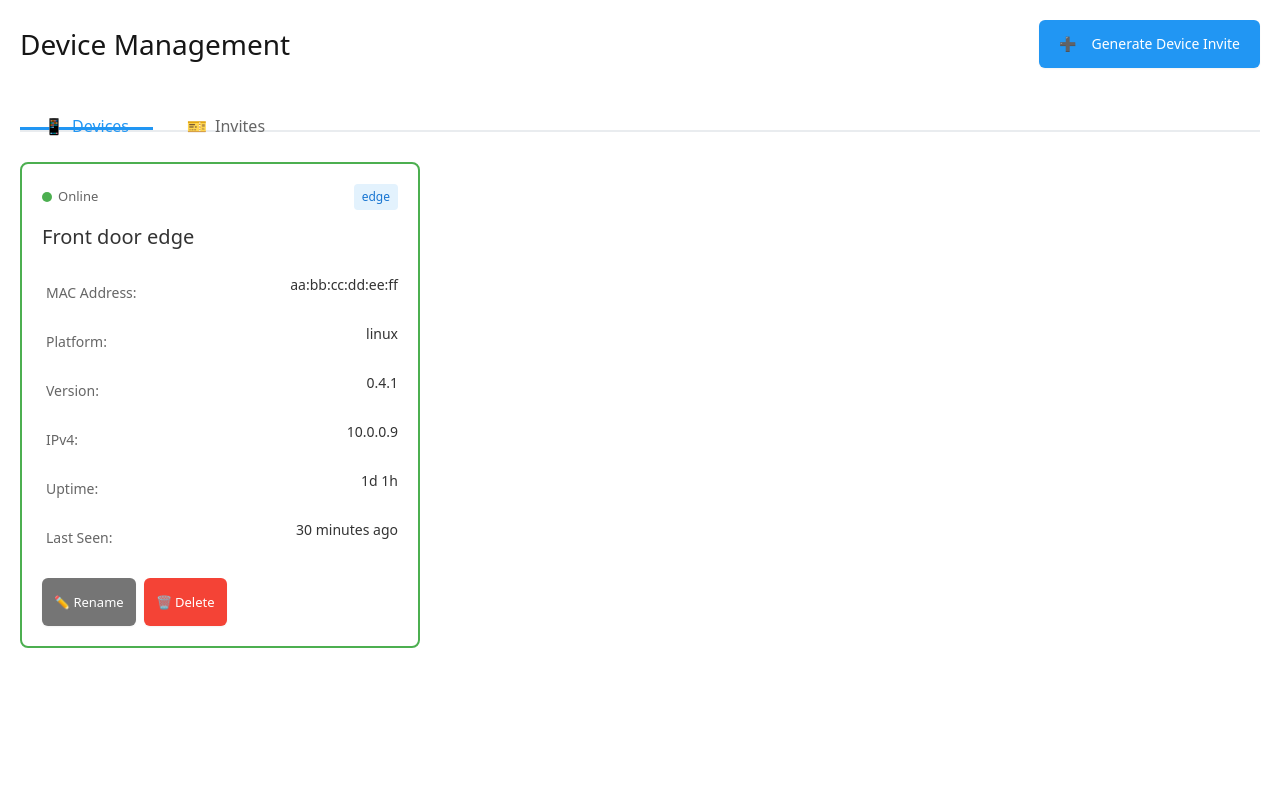
Test: loading › reports a failed invite load separately from the device load
Click the button "🎫 Invites".
click(226, 114)  # box [163, 98, 289, 130]
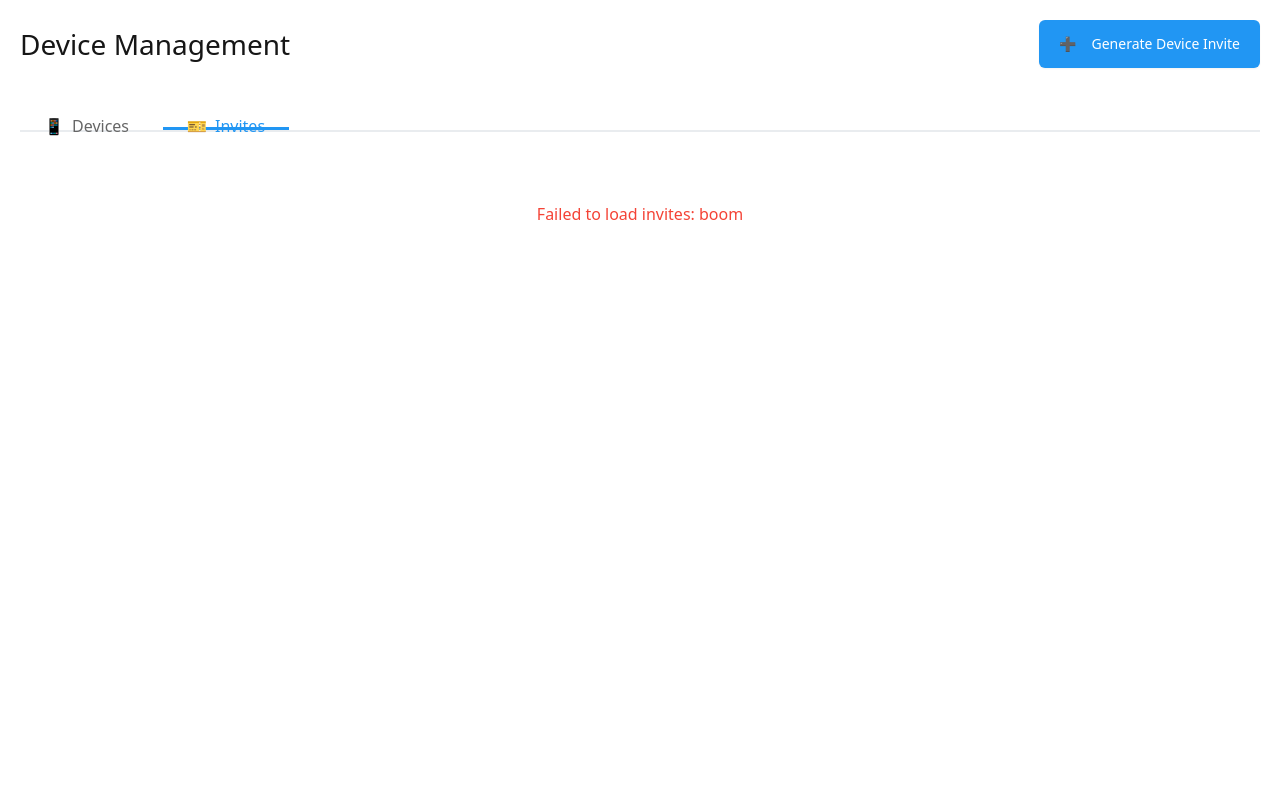
Result: the text with class "error" shows "Failed to load invites" at [537, 203, 743, 225]
